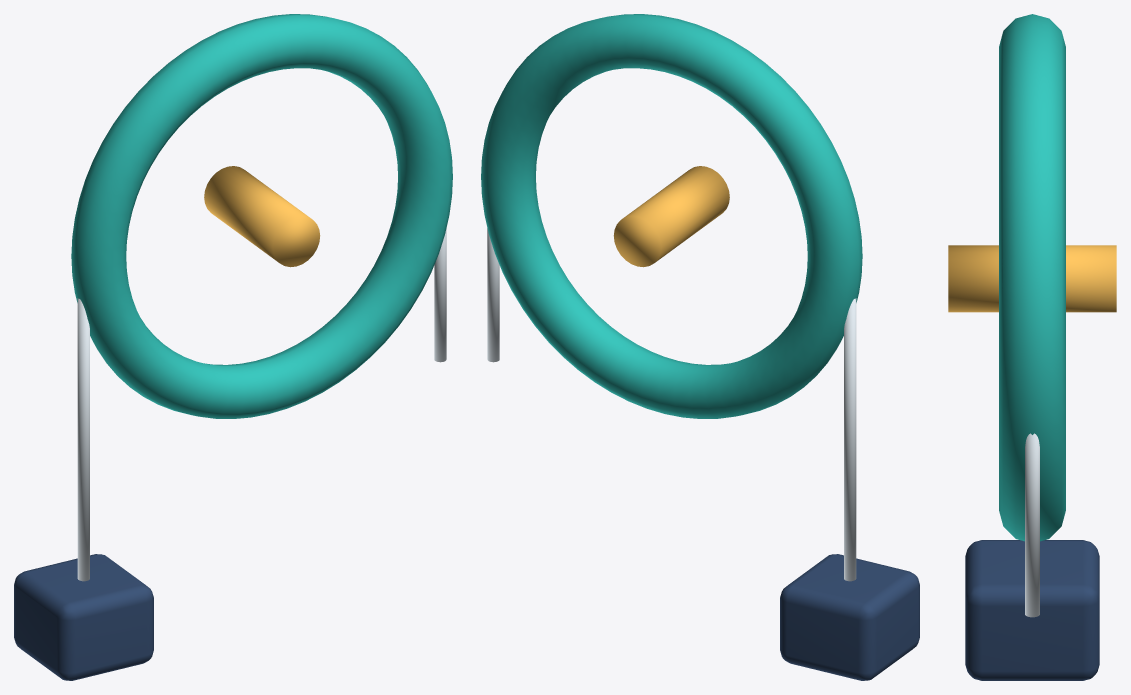
File: pulley-quality.glb
The picture shows the model from 3 angles, left to right: view 1: azimuth 30°, elevation 25°; view 2: azimuth 150°, elevation 25°; view 3: azimuth 270°, elevation 25°; orthographic projection. The views are drawn at different scales.
Visible parts, largest first — view 1: Pulley wheel; view 2: Pulley wheel; view 3: Pulley wheel.
Boxes of the visible parts, box(x1,y1,x2,y2) form: Pulley wheel: box(14, 14, 452, 680); Pulley wheel: box(481, 14, 919, 680); Pulley wheel: box(948, 14, 1116, 680).
Size of the model in its own units: 1.39 by 1.9 by 0.4.
